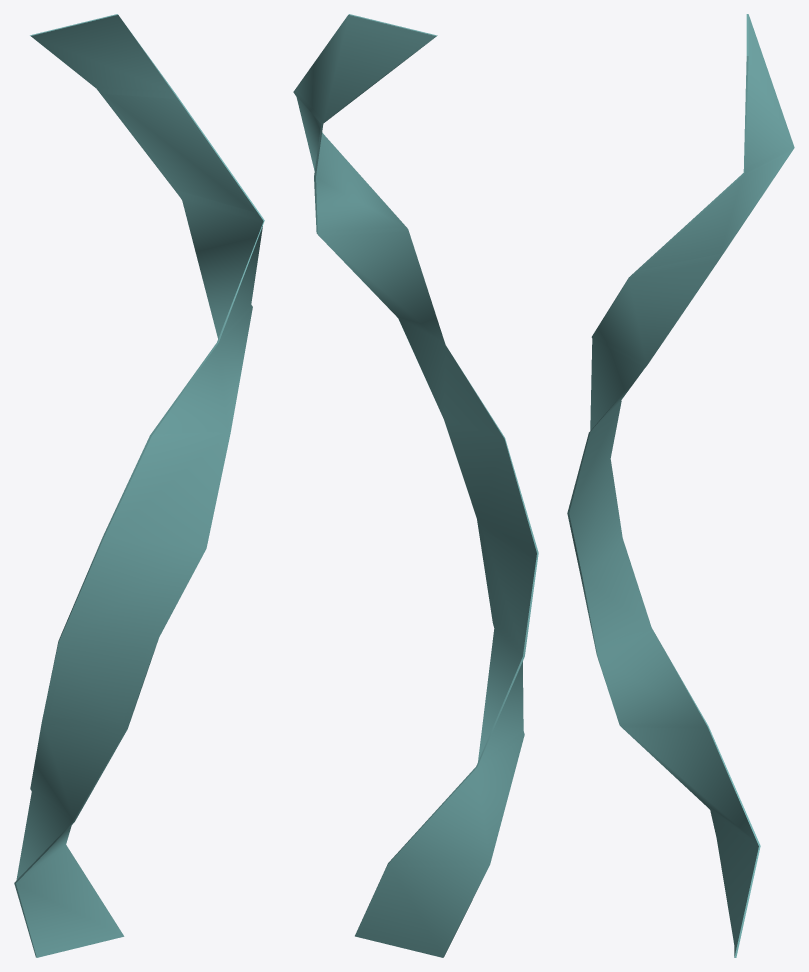
The model's file is ribbon_x1_deco.fbx.
3 views of the same model, side by side, from view 1: azimuth 30°, elevation 25°; view 2: azimuth 150°, elevation 25°; view 3: azimuth 270°, elevation 25° (orthographic). The views are drawn at different scales.
Visible parts, largest first — view 1: ribbon_x1_deco; view 2: ribbon_x1_deco; view 3: ribbon_x1_deco.
Part boxes in pixels (x1,y1,x2,y2): ribbon_x1_deco: (14,14,264,957); ribbon_x1_deco: (293,14,538,957); ribbon_x1_deco: (567,14,794,957).
Size of the model in its own units: 24.22 by 100 by 22.85.
